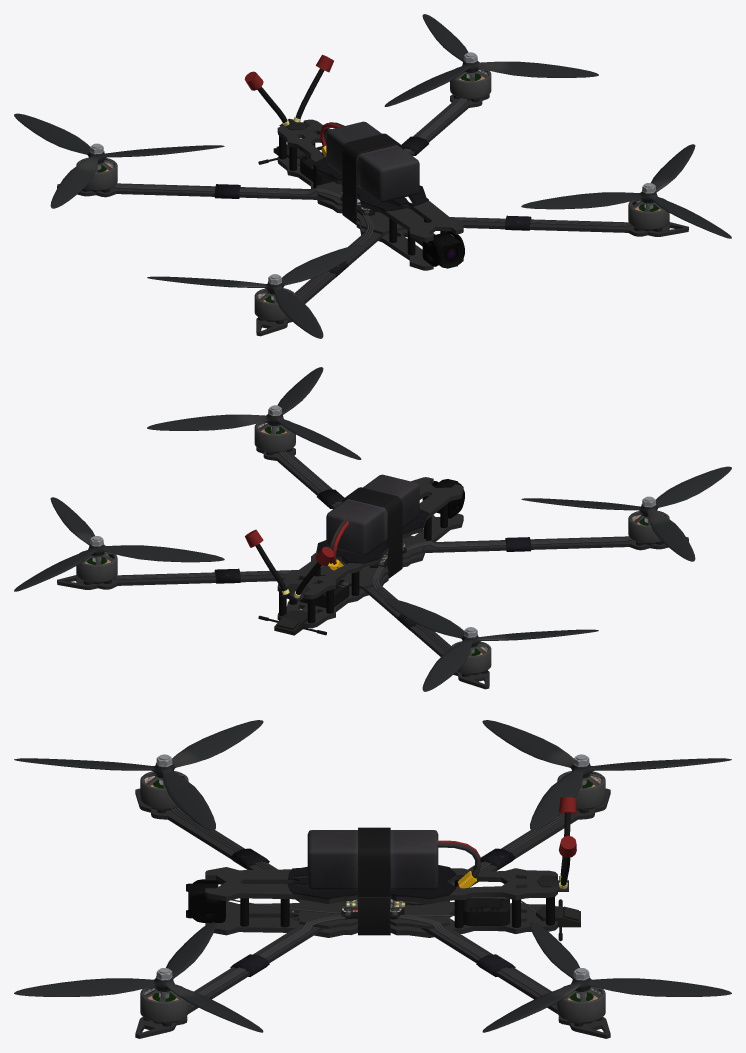
The model's file is fpv-drone.glb.
3 renders of one model, top to bottom at view 1: azimuth 30°, elevation 25°; view 2: azimuth 150°, elevation 25°; view 3: azimuth 270°, elevation 25°, orthographic. The views are drawn at different scales.
Visible parts, largest first — view 1: Frame_Top_Frame_0, Electronics_Electronics_0, Motor_Top_Motor_Top_0, prop_front_right, prop_rear_right, prop_front_left, prop_rear_left, Motor_Rotor_Rotor_0; view 2: Frame_Top_Frame_0, Electronics_Electronics_0, Motor_Top_Motor_Top_0, prop_rear_right, prop_front_right, prop_rear_left, prop_front_left, Motor_Rotor_Rotor_0; view 3: Frame_Top_Frame_0, Electronics_Electronics_0, Motor_Top_Motor_Top_0, prop_front_right, prop_rear_left, prop_front_left, prop_rear_right, Motor_Rotor_Rotor_0.
Boxes of the visible parts, x1,y1,x2,y2 form: Frame_Top_Frame_0: [57, 94, 688, 336]; Electronics_Electronics_0: [113, 54, 631, 298]; Motor_Top_Motor_Top_0: [76, 52, 669, 320]; prop_front_right: [147, 245, 361, 338]; prop_rear_right: [14, 113, 224, 208]; prop_front_left: [521, 144, 731, 238]; prop_rear_left: [384, 14, 598, 106]; Motor_Rotor_Rotor_0: [82, 72, 662, 323]; Frame_Top_Frame_0: [57, 447, 688, 689]; Electronics_Electronics_0: [114, 451, 632, 651]; Motor_Top_Motor_Top_0: [76, 405, 669, 673]; prop_rear_right: [384, 598, 598, 691]; prop_front_right: [521, 466, 731, 561]; prop_rear_left: [14, 497, 224, 591]; prop_front_left: [147, 367, 361, 459]; Motor_Rotor_Rotor_0: [83, 425, 663, 676]; Frame_Top_Frame_0: [135, 788, 610, 1038]; Electronics_Electronics_0: [171, 797, 576, 1005]; Motor_Top_Motor_Top_0: [140, 754, 605, 1022]; prop_front_right: [14, 720, 263, 830]; prop_rear_left: [482, 922, 731, 1032]; prop_front_left: [14, 922, 263, 1032]; prop_rear_right: [482, 720, 731, 830]; Motor_Rotor_Rotor_0: [143, 777, 602, 1026].
Bounding box in the file's own units: 0.3077 × 0.0489 × 0.299.
5 materials, 5 textured.
